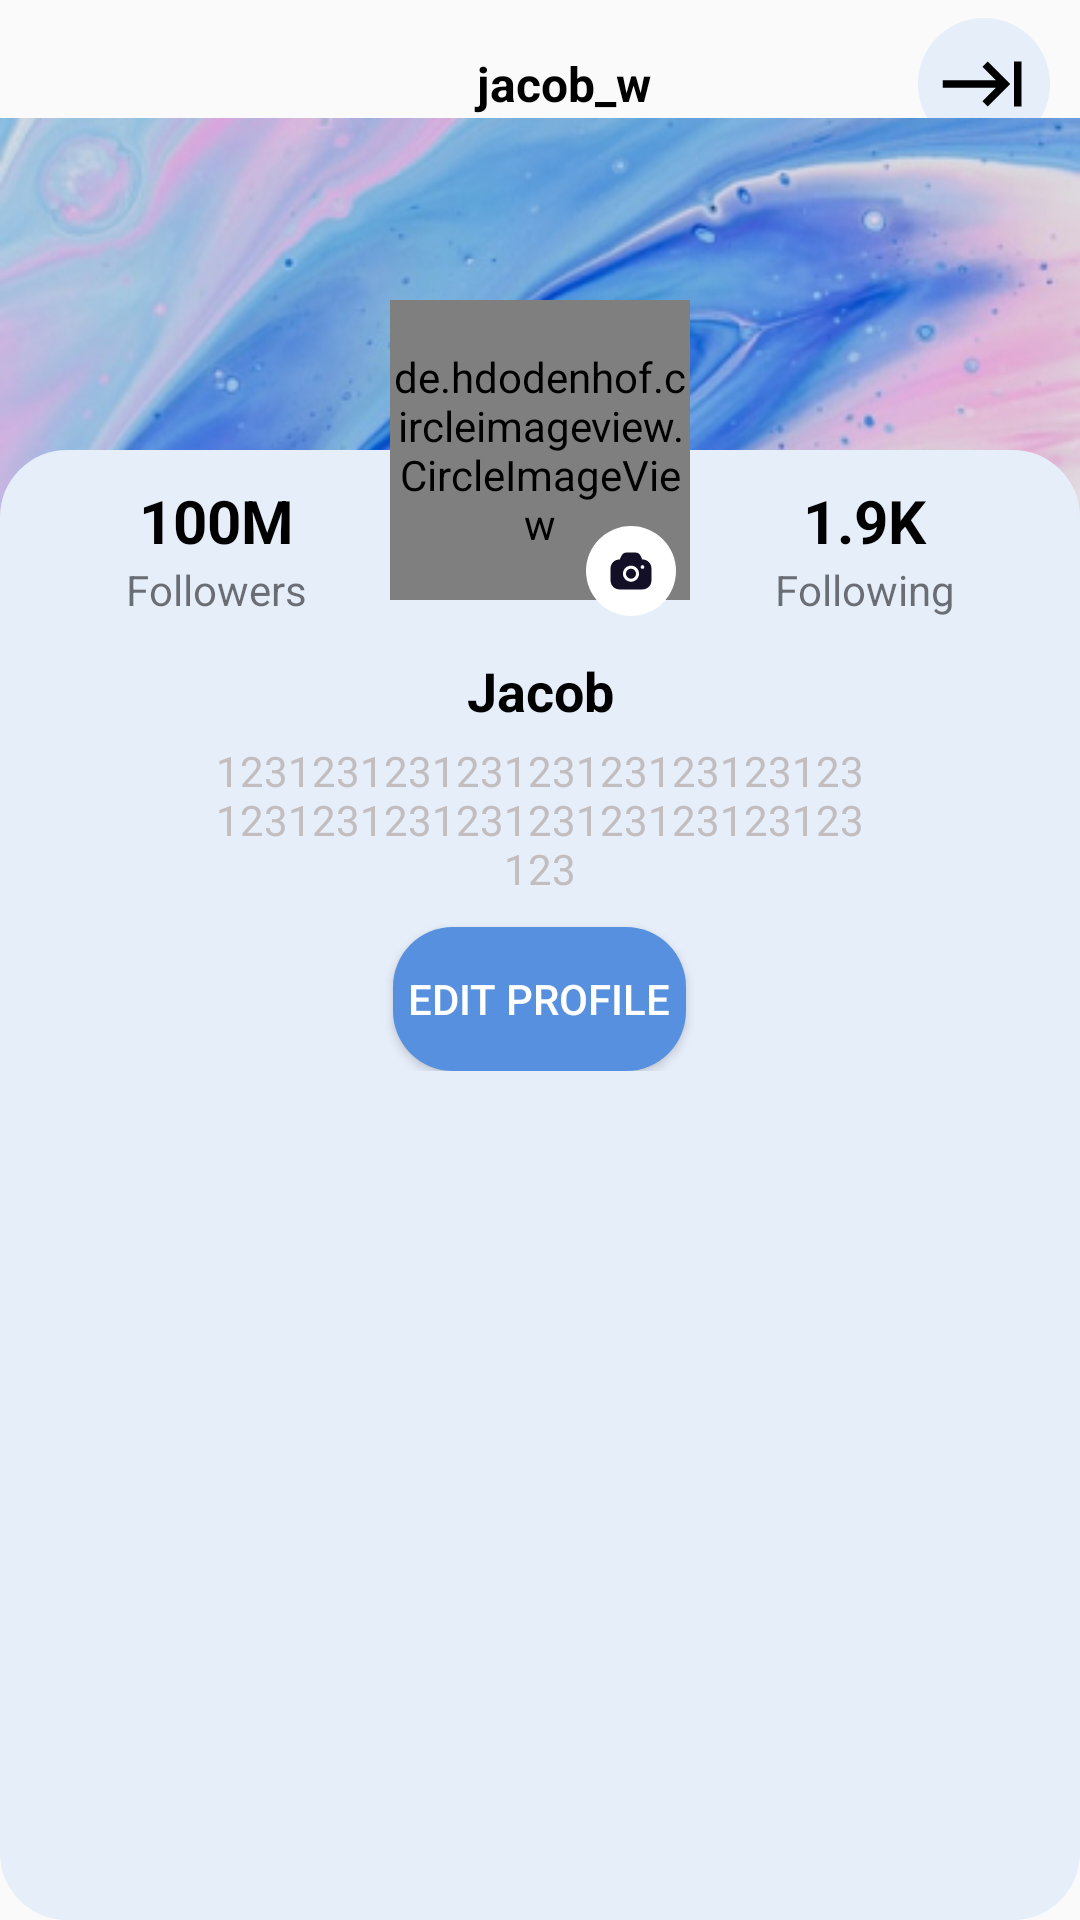

Where to tap for icons on this 1080×1920 app screen, as point (x, y):
camera: point (631, 571)
keyboard tab: point (984, 84)
